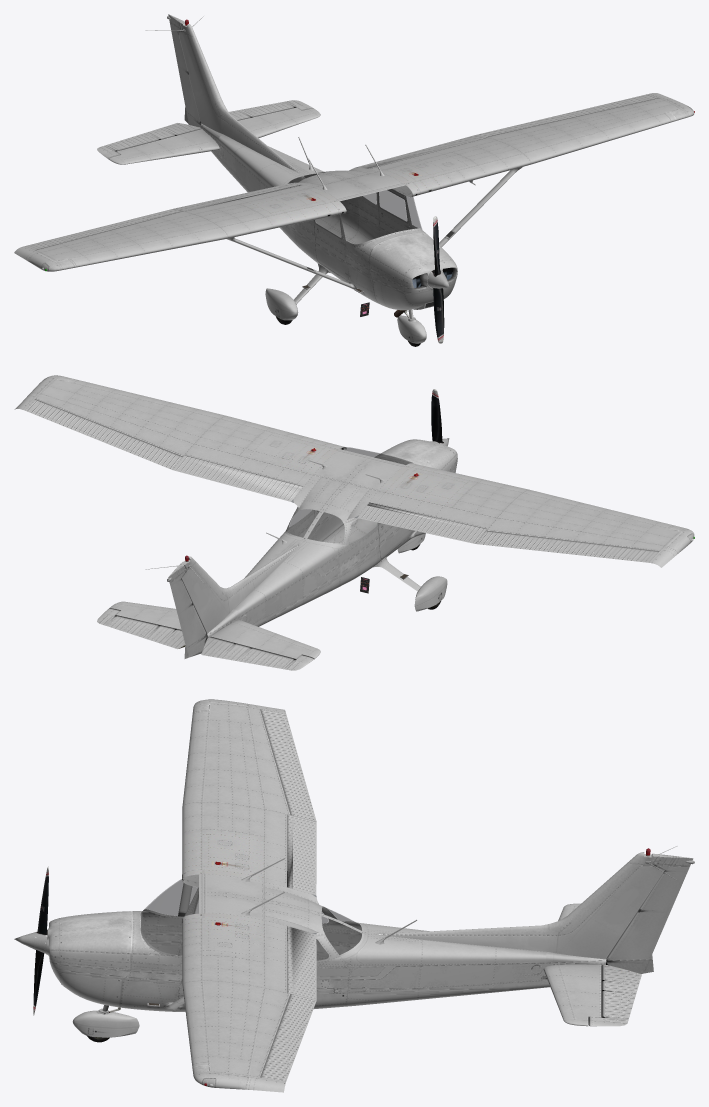
The model's file is airframe.glb.
3 views of the same model, one above another, from view 1: azimuth 30°, elevation 25°; view 2: azimuth 150°, elevation 25°; view 3: azimuth 270°, elevation 25° (orthographic). The views are drawn at different scales.
Visible parts, largest first — view 1: Cessna_Exterior_Body_MAT_0_Body_MAT_0, Cessna_Exterior_Body_MAT_0.002_Body_MAT_0, Cessna_Exterior_Body_MAT_0.015_Body_MAT_0, Cessna_Exterior_Glass_MAT_0_Glass_MAT_0, Cessna_Exterior_Body_MAT_0.007, main_gear_left, Cessna_Exterior_Body_MAT_0.011, Cessna_Exterior_Body_MAT_0.010, Cessna_Exterior_Body_MAT_0.008, Cessna_Exterior_Body_MAT_0.012, Cessna_Exterior_Body_MAT_0.001_Body_MAT_0, Cessna_Exterior_Body_MAT_0.013 (+2 smaller); view 2: Cessna_Exterior_Body_MAT_0.002_Body_MAT_0, Cessna_Exterior_Body_MAT_0.015_Body_MAT_0, Cessna_Exterior_Body_MAT_0_Body_MAT_0, Cessna_Exterior_Body_MAT_0.007, Cessna_Exterior_Glass_MAT_0_Glass_MAT_0, Cessna_Exterior_Body_MAT_0.011, Cessna_Exterior_Body_MAT_0.008, Cessna_Exterior_Body_MAT_0.012, Cessna_Exterior_Body_MAT_0.013, main_gear_left, Cessna_Exterior_Body_MAT_0.010, Cessna_Exterior_Body_MAT_0.001_Body_MAT_0; view 3: Cessna_Exterior_Body_MAT_0_Body_MAT_0, Cessna_Exterior_Body_MAT_0.015_Body_MAT_0, Cessna_Exterior_Body_MAT_0.002_Body_MAT_0, Cessna_Exterior_Body_MAT_0.007, Cessna_Exterior_Body_MAT_0.008, Cessna_Exterior_Glass_MAT_0_Glass_MAT_0, Cessna_Exterior_Body_MAT_0.010, Cessna_Exterior_Body_MAT_0.013, main_gear_left, Cessna_Exterior_Body_MAT_0.001_Body_MAT_0.
Part boxes in pixels (x1=…): Cessna_Exterior_Body_MAT_0_Body_MAT_0: x1=200, y1=123, x2=457, y2=317; Cessna_Exterior_Body_MAT_0.002_Body_MAT_0: x1=358, y1=93, x2=694, y2=197; Cessna_Exterior_Body_MAT_0.015_Body_MAT_0: x1=14, y1=183, x2=346, y2=271; Cessna_Exterior_Glass_MAT_0_Glass_MAT_0: x1=290, y1=171, x2=421, y2=243; Cessna_Exterior_Body_MAT_0.007: x1=145, y1=16, x2=305, y2=183; main_gear_left: x1=45, y1=111, x2=694, y2=346; Cessna_Exterior_Body_MAT_0.011: x1=108, y1=129, x2=219, y2=164; Cessna_Exterior_Body_MAT_0.010: x1=238, y1=107, x2=320, y2=138; Cessna_Exterior_Body_MAT_0.008: x1=167, y1=14, x2=201, y2=127; Cessna_Exterior_Body_MAT_0.012: x1=97, y1=123, x2=201, y2=158; Cessna_Exterior_Body_MAT_0.001_Body_MAT_0: x1=433, y1=216, x2=444, y2=343; Cessna_Exterior_Body_MAT_0.013: x1=229, y1=100, x2=313, y2=120; Cessna_Exterior_Body_MAT_0.002_Body_MAT_0: x1=14, y1=375, x2=346, y2=501; Cessna_Exterior_Body_MAT_0.015_Body_MAT_0: x1=357, y1=463, x2=694, y2=567; Cessna_Exterior_Body_MAT_0_Body_MAT_0: x1=206, y1=439, x2=457, y2=639; Cessna_Exterior_Body_MAT_0.007: x1=145, y1=544, x2=298, y2=633; Cessna_Exterior_Glass_MAT_0_Glass_MAT_0: x1=286, y1=447, x2=412, y2=542; Cessna_Exterior_Body_MAT_0.011: x1=210, y1=620, x2=320, y2=659; Cessna_Exterior_Body_MAT_0.008: x1=167, y1=564, x2=206, y2=658; Cessna_Exterior_Body_MAT_0.012: x1=201, y1=637, x2=313, y2=670; Cessna_Exterior_Body_MAT_0.013: x1=97, y1=608, x2=185, y2=649; main_gear_left: x1=385, y1=438, x2=694, y2=611; Cessna_Exterior_Body_MAT_0.010: x1=109, y1=601, x2=181, y2=629; Cessna_Exterior_Body_MAT_0.001_Body_MAT_0: x1=431, y1=389, x2=442, y2=442; Cessna_Exterior_Body_MAT_0_Body_MAT_0: x1=46, y1=874, x2=606, y2=1011; Cessna_Exterior_Body_MAT_0.015_Body_MAT_0: x1=182, y1=699, x2=316, y2=894; Cessna_Exterior_Body_MAT_0.002_Body_MAT_0: x1=182, y1=913, x2=316, y2=1092; Cessna_Exterior_Body_MAT_0.007: x1=378, y1=846, x2=677, y2=959; Cessna_Exterior_Body_MAT_0.008: x1=606, y1=854, x2=694, y2=973; Cessna_Exterior_Glass_MAT_0_Glass_MAT_0: x1=143, y1=875, x2=361, y2=959; Cessna_Exterior_Body_MAT_0.010: x1=543, y1=964, x2=601, y2=1026; Cessna_Exterior_Body_MAT_0.013: x1=588, y1=965, x2=641, y2=1026; main_gear_left: x1=14, y1=929, x2=206, y2=1085; Cessna_Exterior_Body_MAT_0.001_Body_MAT_0: x1=33, y1=866, x2=48, y2=1015.
Bounding box in the file's own units: 12.6 × 3.08 × 9.44.
Materials: 3 (2 with a texture image).
